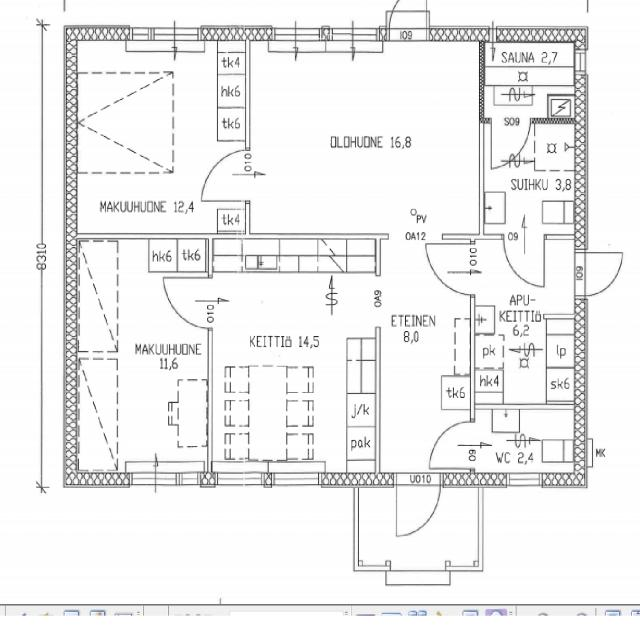door: (398, 473, 440, 538), (427, 244, 475, 294), (202, 150, 250, 200), (165, 277, 212, 328), (504, 235, 545, 288), (576, 252, 626, 294), (430, 421, 474, 468), (492, 119, 531, 168), (389, 0, 426, 40)
